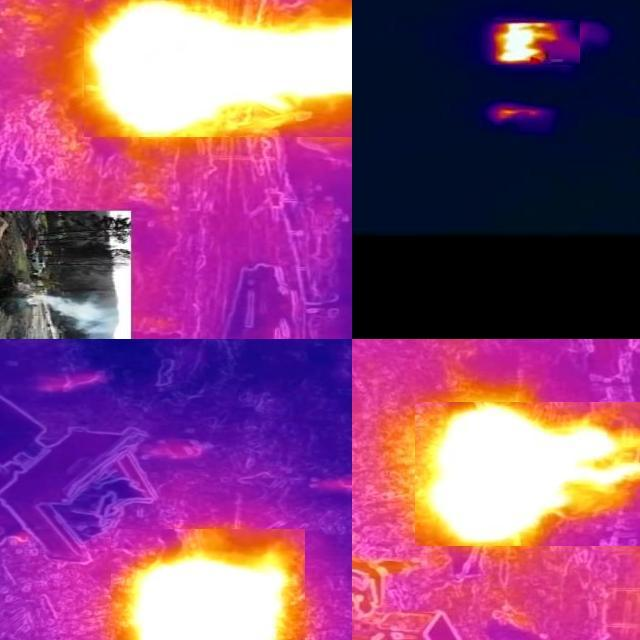fire: (85, 1, 353, 137), (416, 402, 640, 546), (112, 529, 306, 640), (487, 20, 581, 65), (489, 104, 547, 122)
